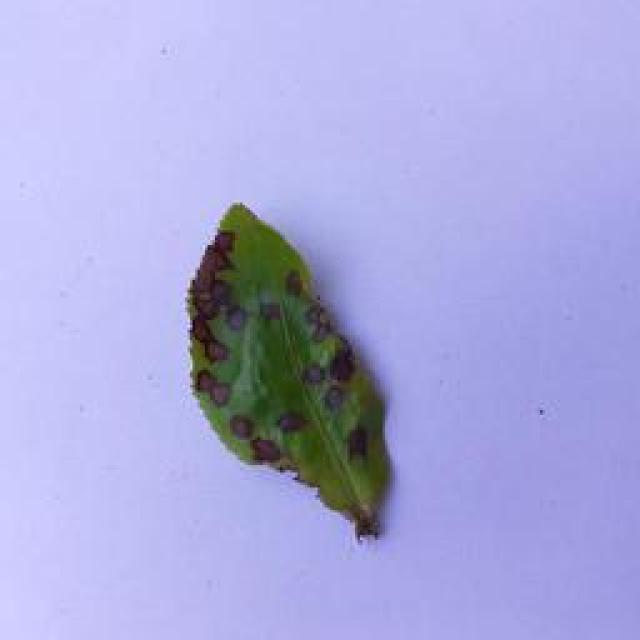Helopeltis: (175, 185, 414, 547)
